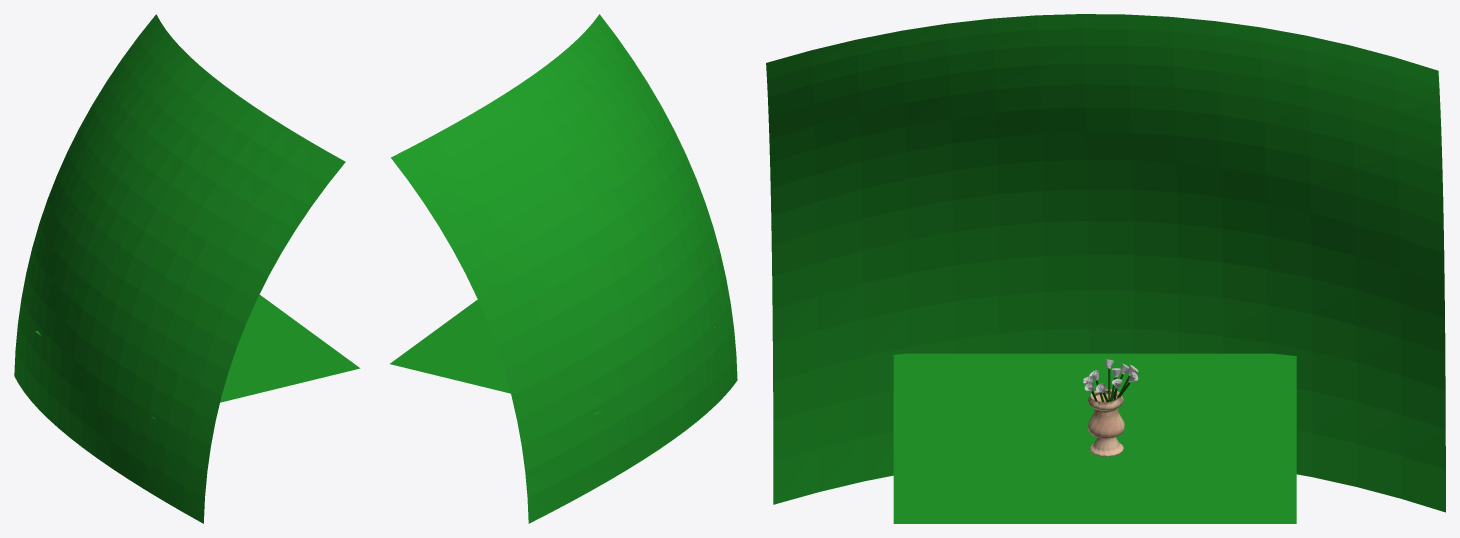
The model's file is vase with tulips.obj.
The picture shows the model from 3 angles, left to right: view 1: azimuth 30°, elevation 25°; view 2: azimuth 150°, elevation 25°; view 3: azimuth 270°, elevation 25°; orthographic projection. The views are drawn at different scales.
Parts seen in each view (by area): view 1: SurfPatch, Plane; view 2: SurfPatch, Plane; view 3: SurfPatch, Plane, Jarrón_Mesh.003.
Boxes of the visible parts, x1,y1,x2,y2 form: SurfPatch: (14,14,345,523); Plane: (35,294,360,418); SurfPatch: (391,14,737,523); Plane: (390,299,715,414); SurfPatch: (766,14,1445,512); Plane: (893,353,1296,523); Jarrón_Mesh.003: (1088,388,1124,456).
Size of the model in its own units: 4.99 by 7.44 by 7.87.
